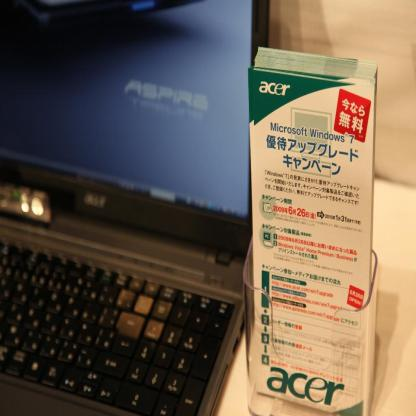board: (0, 11, 276, 416)
